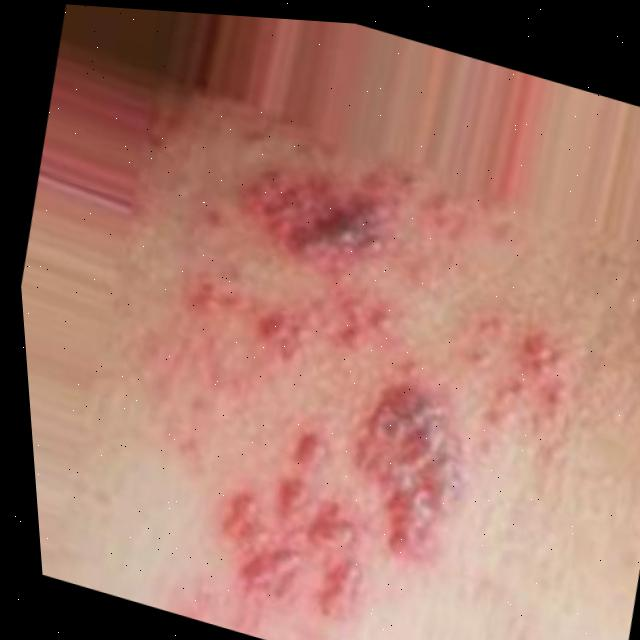Shingles: (124, 134, 630, 640)
